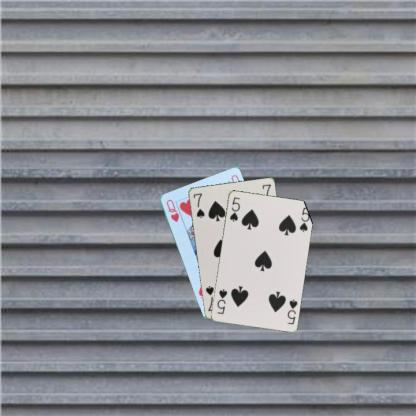5s: (285, 296, 299, 326), (227, 194, 241, 223)
7s: (190, 190, 206, 219)
Qh: (164, 196, 180, 223)
